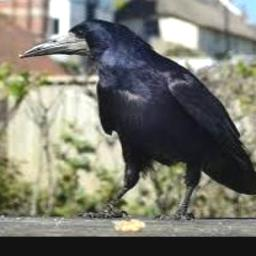Crow: (20, 16, 256, 220)
